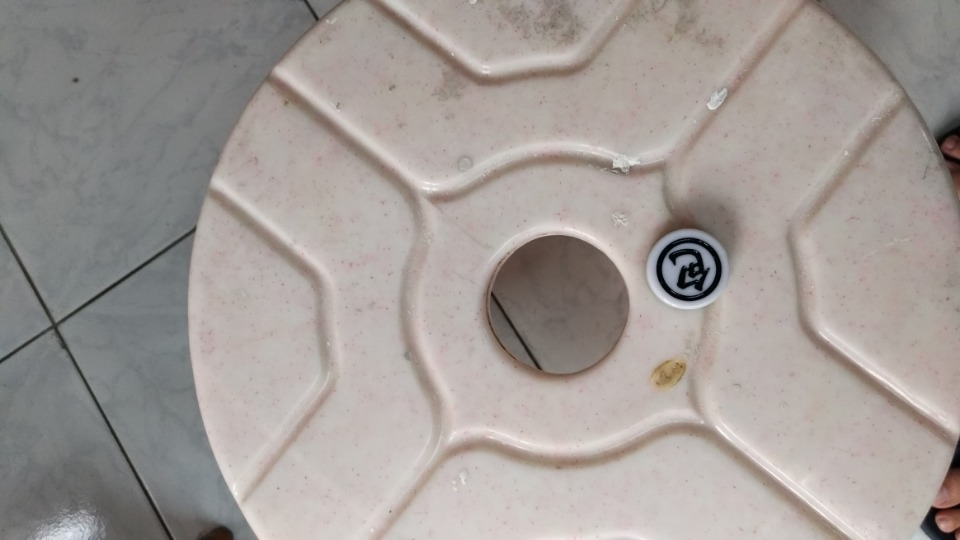b-cannon: (636, 222, 749, 317)
